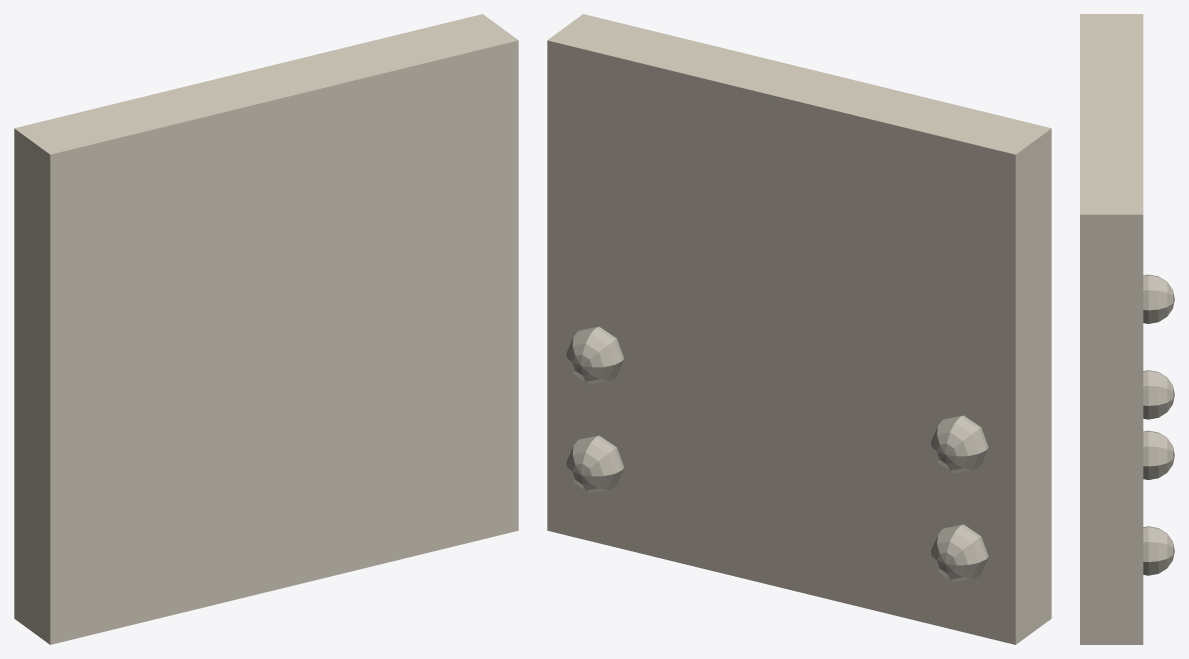
Rendered from CrumblePlate.glb.
3 views of the same model, side by side, from view 1: azimuth 30°, elevation 25°; view 2: azimuth 150°, elevation 25°; view 3: azimuth 270°, elevation 25° (orthographic). The views are drawn at different scales.
Parts seen in each view (by area): view 1: CrumblePlate_slab; view 2: CrumblePlate_slab, CrumblePlate_peb1, CrumblePlate_peb3, CrumblePlate_peb0, CrumblePlate_peb2; view 3: CrumblePlate_slab, CrumblePlate_peb1, CrumblePlate_peb0, CrumblePlate_peb2, CrumblePlate_peb3.
Boxes of the visible parts, <box> form: CrumblePlate_slab: <box>14,14,518,644</box>; CrumblePlate_slab: <box>547,14,1051,644</box>; CrumblePlate_peb1: <box>566,435,624,493</box>; CrumblePlate_peb3: <box>566,326,623,384</box>; CrumblePlate_peb0: <box>931,524,988,581</box>; CrumblePlate_peb2: <box>931,415,988,472</box>; CrumblePlate_slab: <box>1080,14,1143,644</box>; CrumblePlate_peb1: <box>1143,526,1174,575</box>; CrumblePlate_peb0: <box>1143,370,1174,419</box>; CrumblePlate_peb2: <box>1143,274,1174,323</box>; CrumblePlate_peb3: <box>1143,430,1174,479</box>.
Size of the model in its own units: 0.9 by 0.9 by 0.18.
